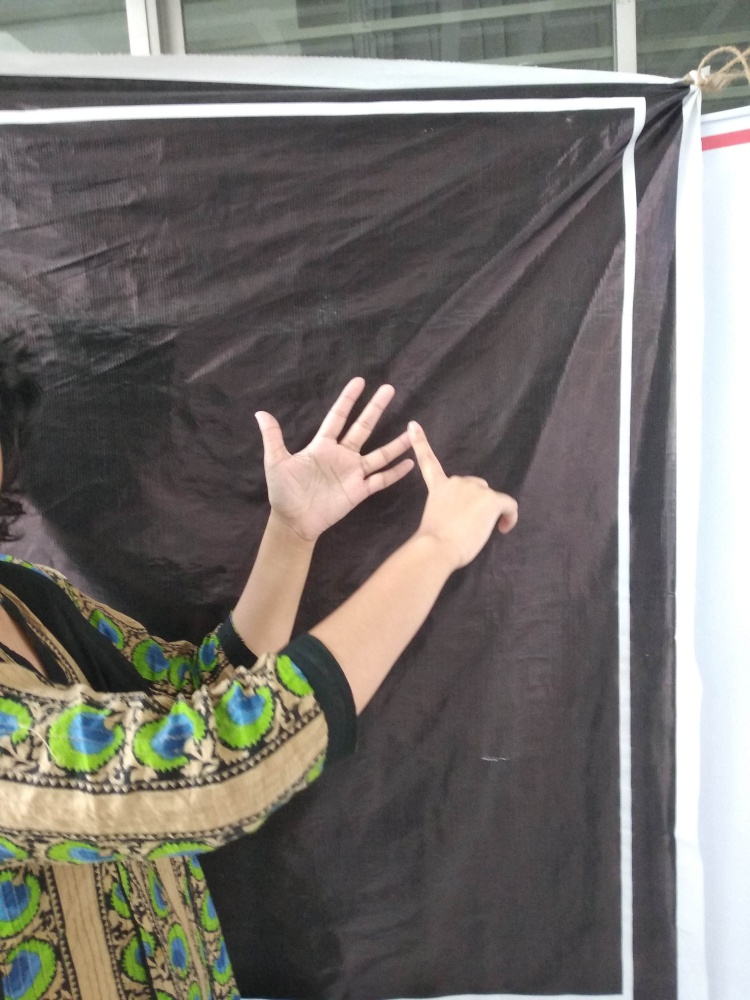e: (236, 371, 486, 542)
